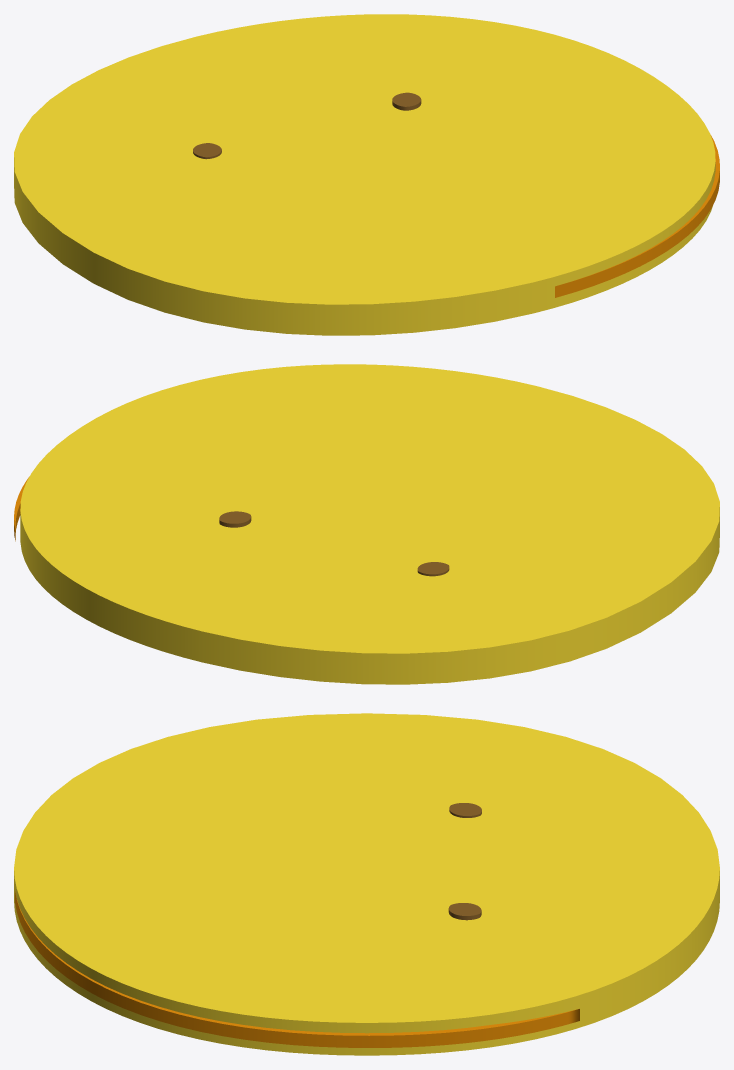
File: emoji_u1f600.glb
The picture shows the model from 3 angles, top to bottom: view 1: azimuth 30°, elevation 25°; view 2: azimuth 150°, elevation 25°; view 3: azimuth 270°, elevation 25°; orthographic projection. The views are drawn at different scales.
Parts seen in each view (by area): view 1: emoji_u1f600; view 2: emoji_u1f600; view 3: emoji_u1f600.
Boxes of the visible parts, bbox=[...] form: emoji_u1f600: bbox=[14, 14, 719, 335]; emoji_u1f600: bbox=[14, 364, 719, 684]; emoji_u1f600: bbox=[14, 713, 719, 1055].
Bounding box in the file's own units: 0.0328 × 0.002 × 0.0313.
